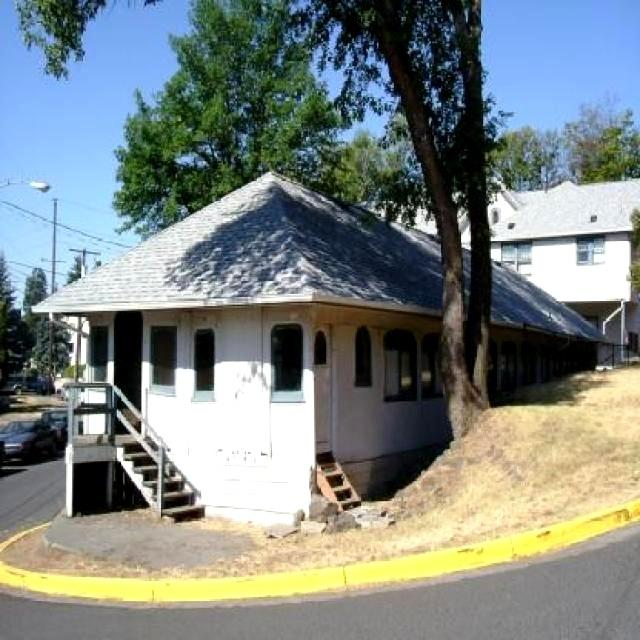stair: (114, 439, 206, 523), (316, 454, 360, 516)
